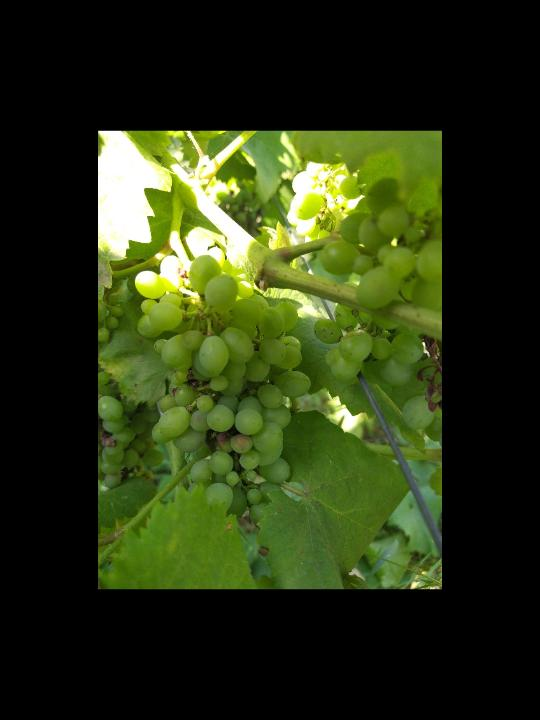grape: (134, 244, 314, 528)
